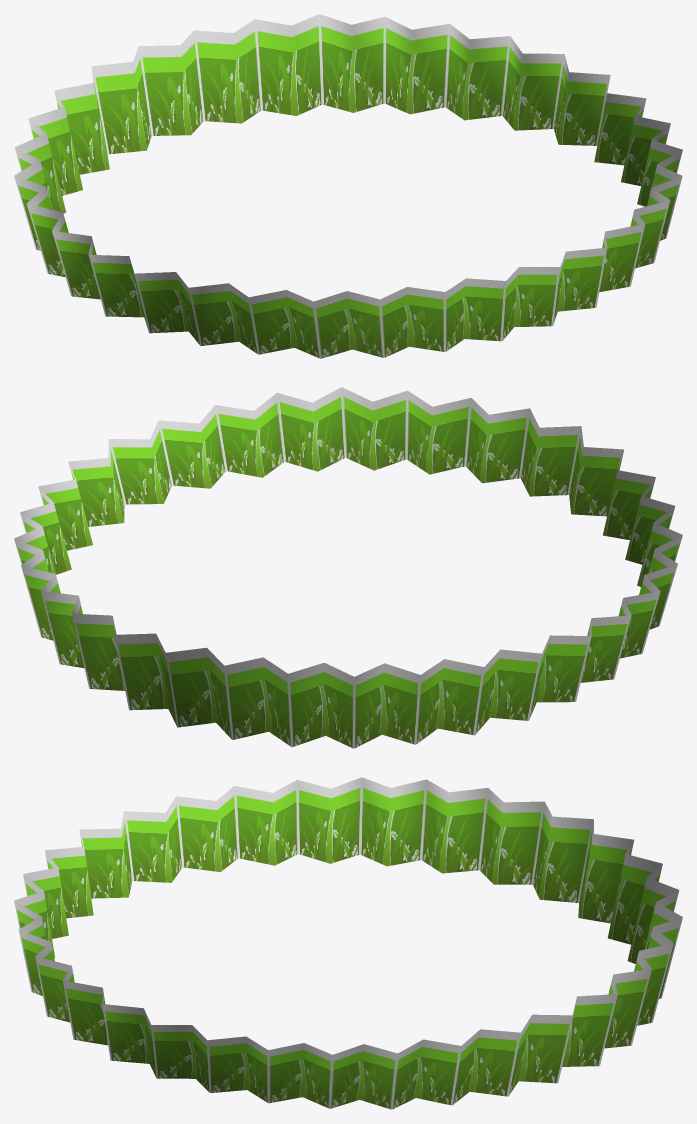
File: SM_Grass_circles.fbx
The picture shows the model from 3 angles, top to bottom: view 1: azimuth 30°, elevation 25°; view 2: azimuth 150°, elevation 25°; view 3: azimuth 270°, elevation 25°; orthographic projection.
Parts seen in each view (by area): view 1: Cylinder.002; view 2: Cylinder.002; view 3: Cylinder.002.
Part boxes in pixels (x1,y1,x2,y2): Cylinder.002: [14, 14, 682, 358]; Cylinder.002: [14, 387, 682, 748]; Cylinder.002: [14, 777, 682, 1109].
Bounding box in the file's own units: 180 × 25.8 × 182.
Materials: 1 (1 with a texture image).
